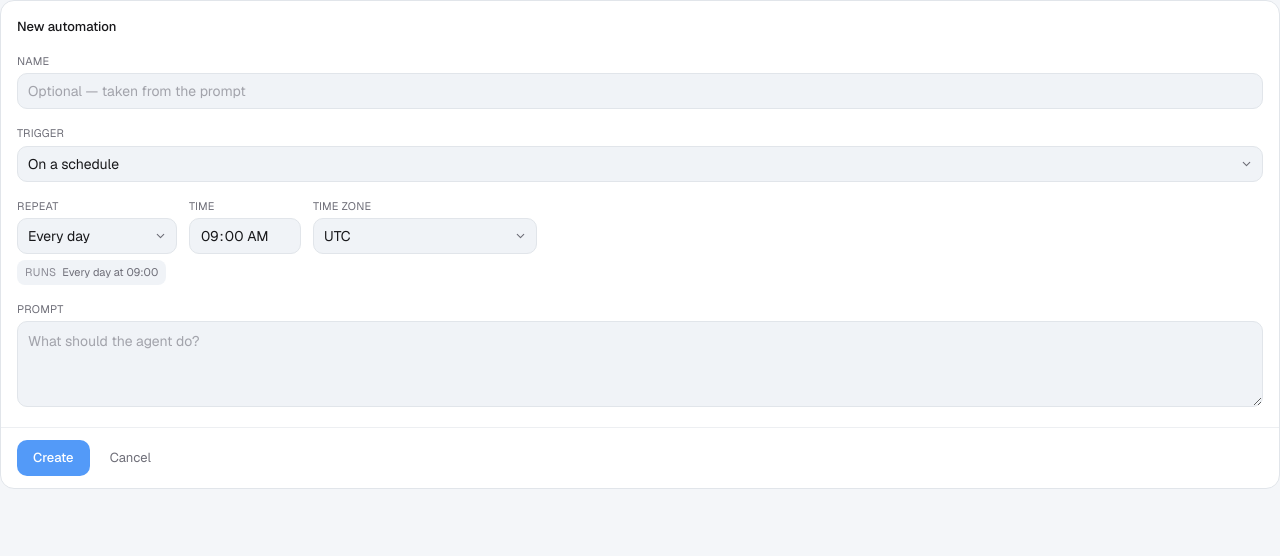
Test: AutomationForm — optional name › still refuses to submit without a prompt — there is nothing to derive from
The width and height of the screenshot is (1280, 556).
Click the button with test id "automation-form-save".
click(53, 458)  # box [17,440,90,476]
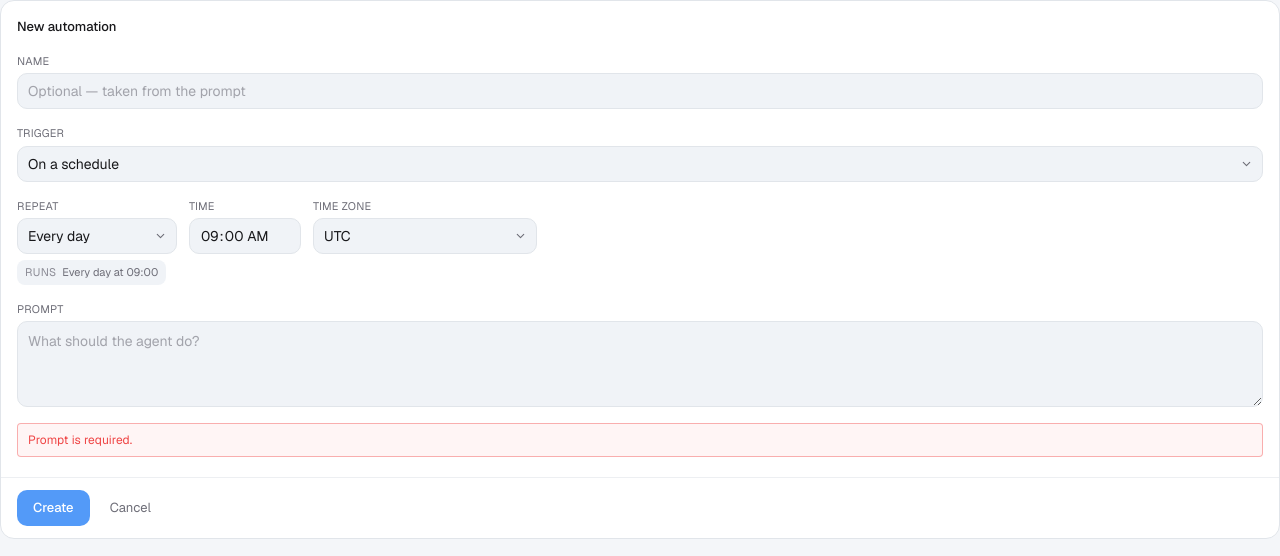
Result: the text "Prompt is required." is shown at [17,423,1263,457]
